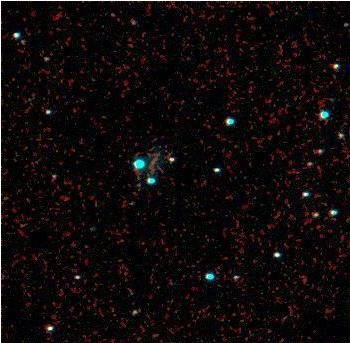star: (97, 0, 127, 29)
